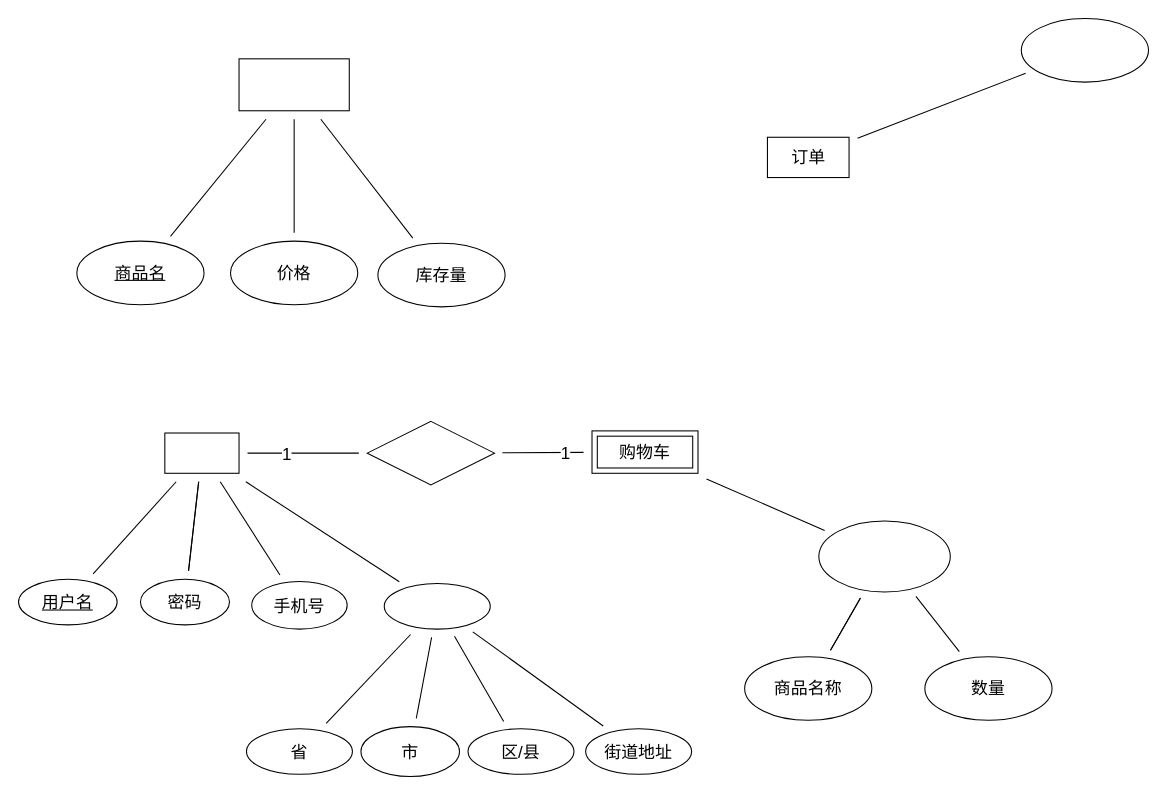
Image size: 1167x795. Some labels were removed from this diagram. Each missing label, with the box of its shape:
使用: (366, 420, 494, 485)
商品: (238, 58, 349, 111)
待购商品信息: (818, 520, 950, 592)
收货地址: (383, 582, 490, 629)
订单号: (1020, 17, 1149, 82)
顾客: (164, 432, 239, 473)
